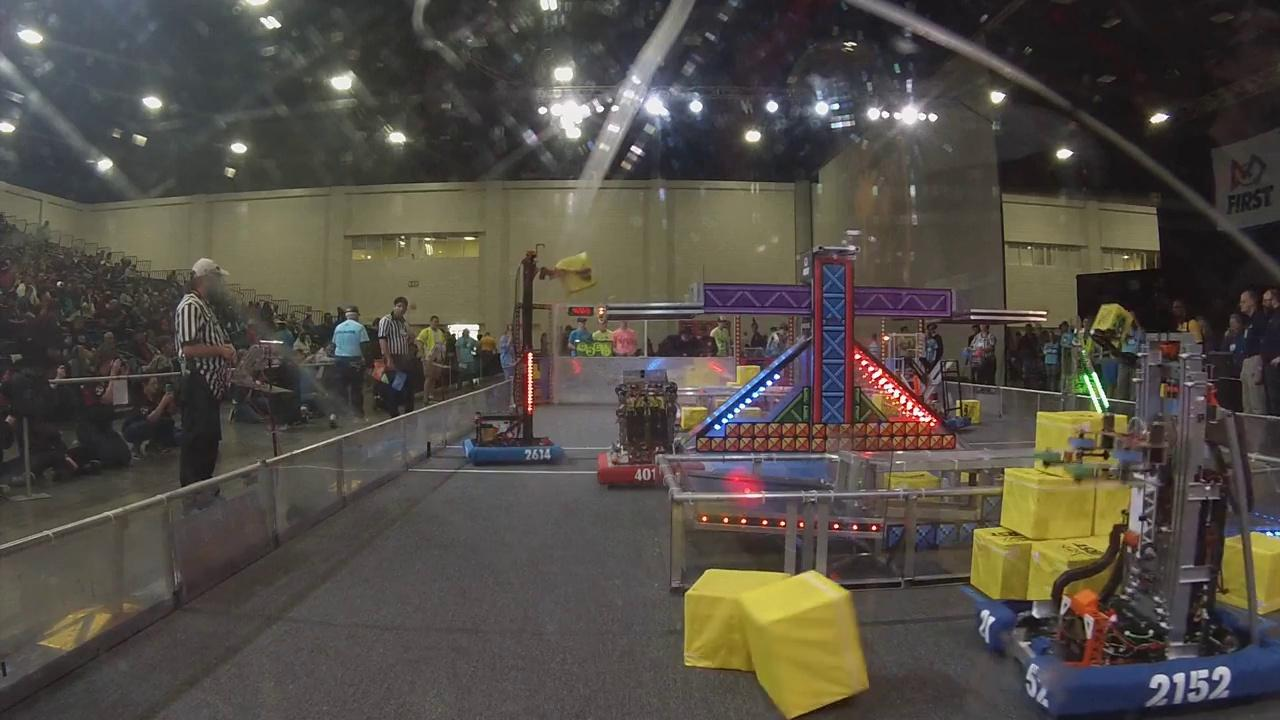robot: (970, 312, 1280, 720), (463, 246, 592, 462), (596, 367, 710, 487)
